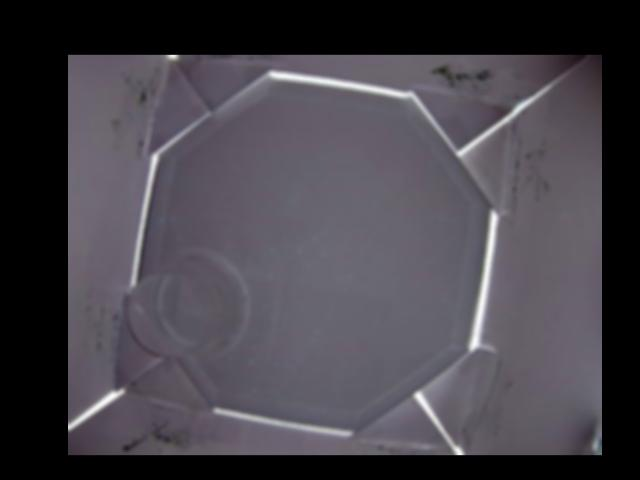Cup: (123, 250, 249, 361)
